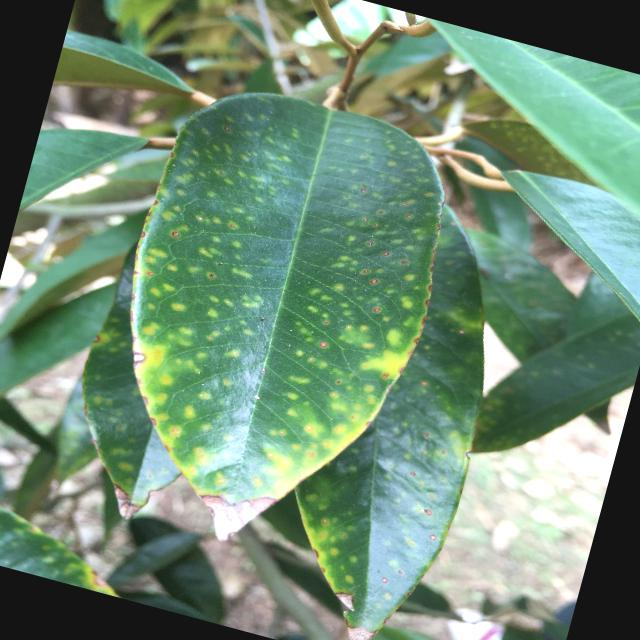Leaf Spot: (26, 53, 559, 639)
